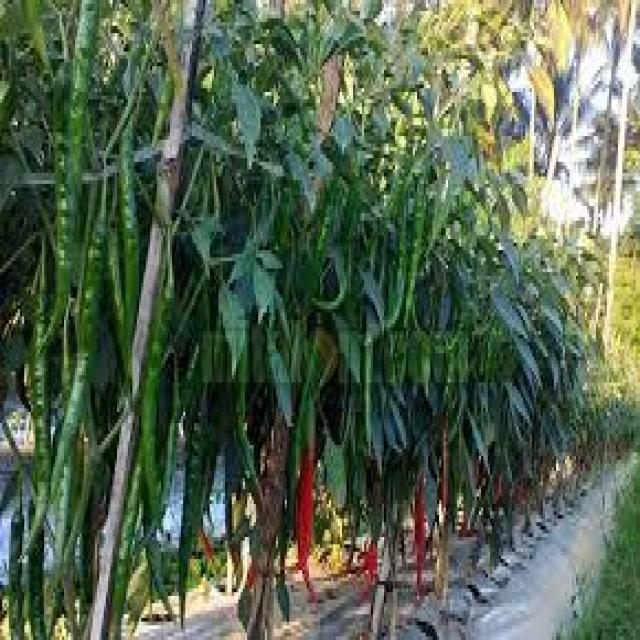sehat: (215, 289, 256, 391), (228, 84, 264, 167)
